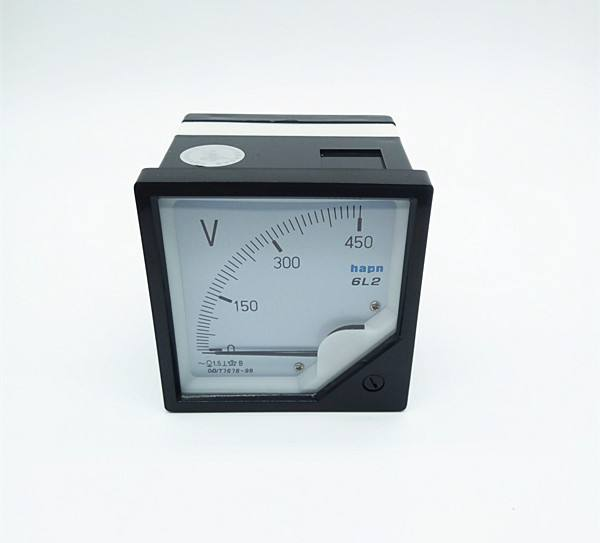pointer: (151, 194, 409, 401)
